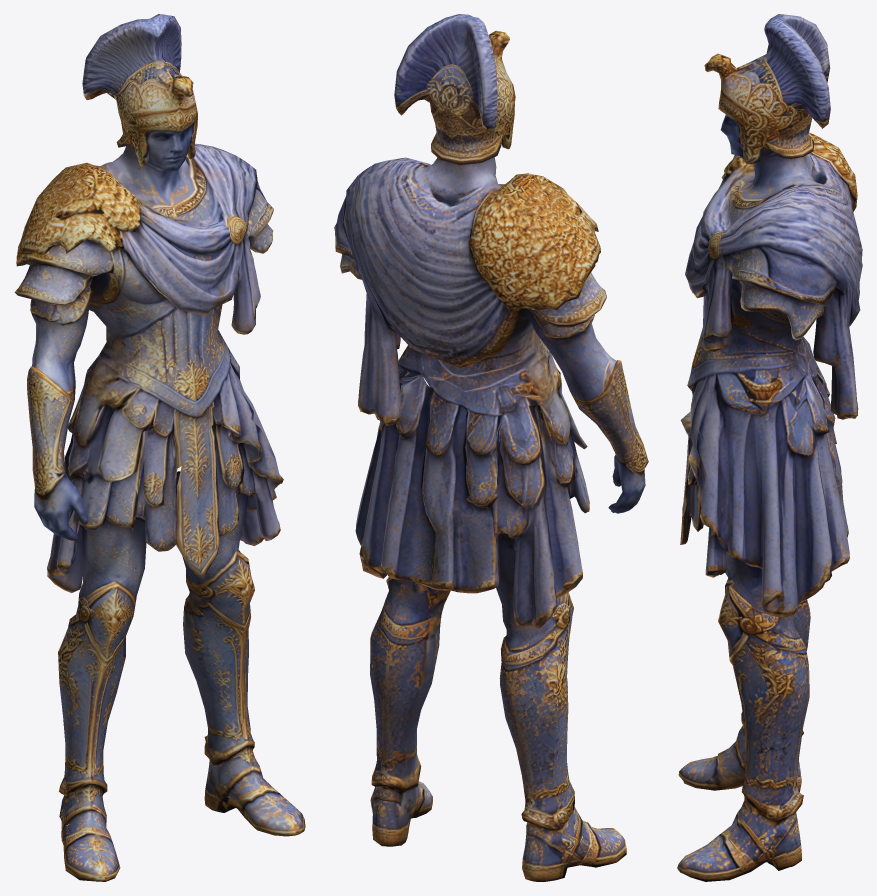
File: guardian2.glb
The picture shows the model from 3 angles, left to right: view 1: azimuth 30°, elevation 25°; view 2: azimuth 150°, elevation 25°; view 3: azimuth 270°, elevation 25°; orthographic projection. The views are drawn at different scales.
Parts seen in each view (by area): view 1: tripo_node_a38eb458; view 2: tripo_node_a38eb458; view 3: tripo_node_a38eb458.
Part boxes in pixels (x1,y1,x2,y2): tripo_node_a38eb458: (14,14,305,881); tripo_node_a38eb458: (334,14,648,881); tripo_node_a38eb458: (677,14,862,881).
Size of the model in its own units: 0.3293 by 0.977 by 0.2031.
Materials: 1 (1 with a texture image).
